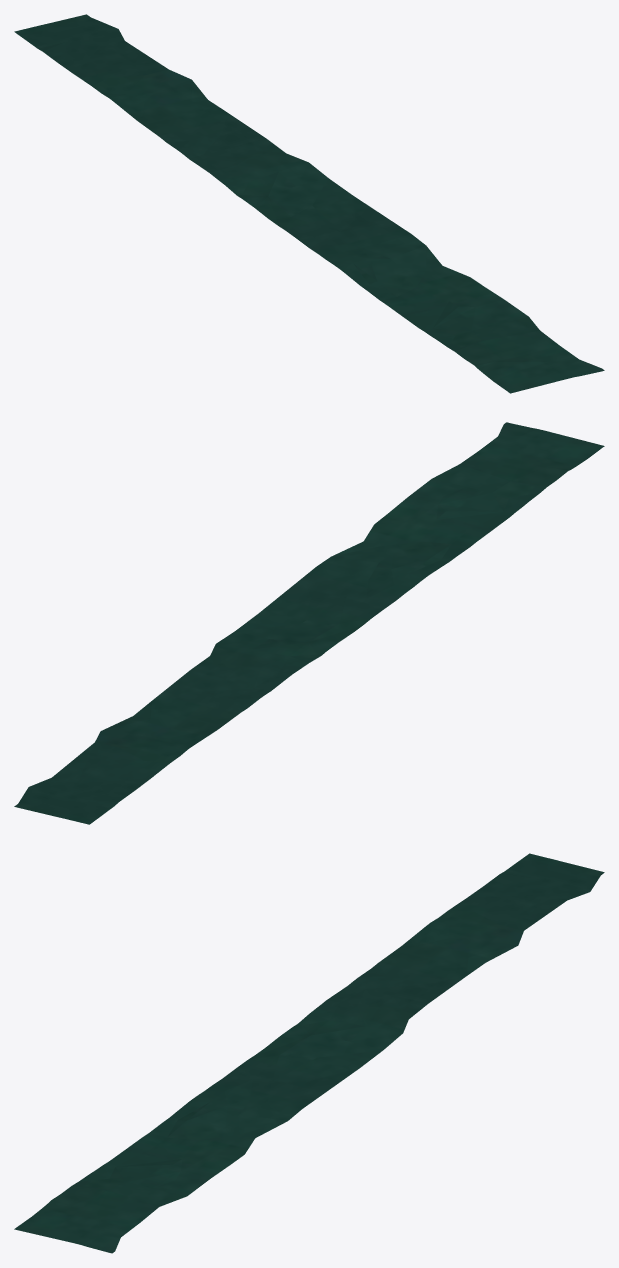
3 renders of one model, top to bottom at view 1: azimuth 30°, elevation 25°; view 2: azimuth 150°, elevation 25°; view 3: azimuth 330°, elevation 25°, orthographic. The views are drawn at different scales.
Bounding box in the file's own units: 11.51 × 0.6002 × 104.
1 material, 1 textured.
